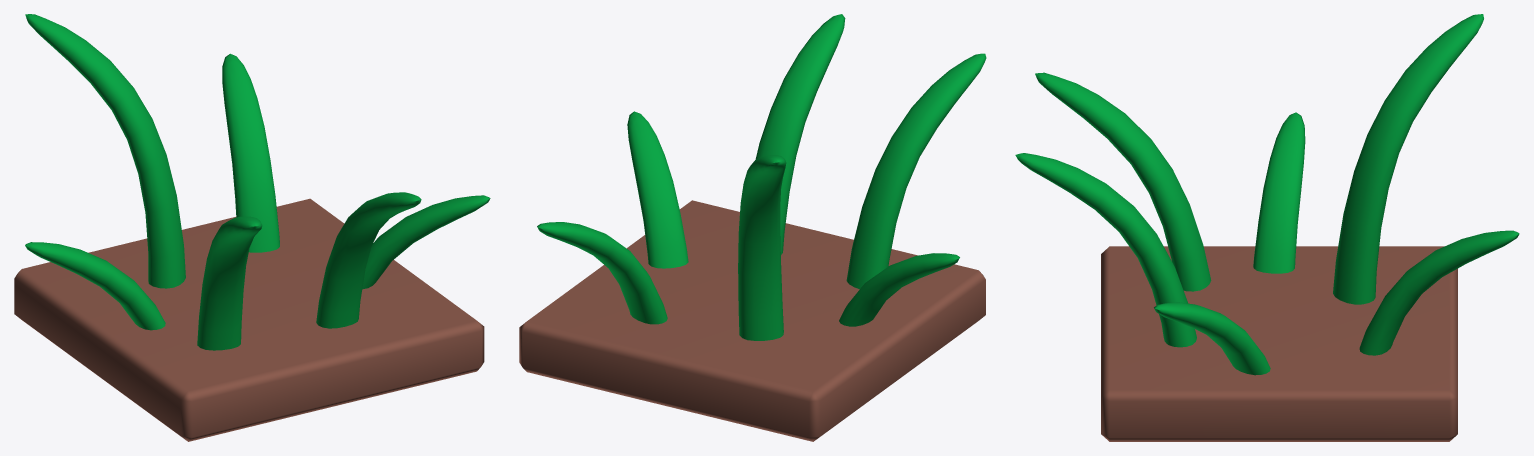
Rendered from Farm_18_Ground_with_Grass_3.glb.
3 views of the same model, side by side, from view 1: azimuth 30°, elevation 25°; view 2: azimuth 150°, elevation 25°; view 3: azimuth 270°, elevation 25° (orthographic). The views are drawn at different scales.
Parts seen in each view (by area): view 1: Farm_18_Ground_with_Grass_3; view 2: Farm_18_Ground_with_Grass_3; view 3: Farm_18_Ground_with_Grass_3.
Boxes of the visible parts, x1,y1,x2,y2 form: Farm_18_Ground_with_Grass_3: (14,14,490,441); Farm_18_Ground_with_Grass_3: (519,14,986,441); Farm_18_Ground_with_Grass_3: (1015,14,1519,441).
Size of the model in its own units: 1.17 by 0.8117 by 1.26.
Materials: 1 (1 with a texture image).
